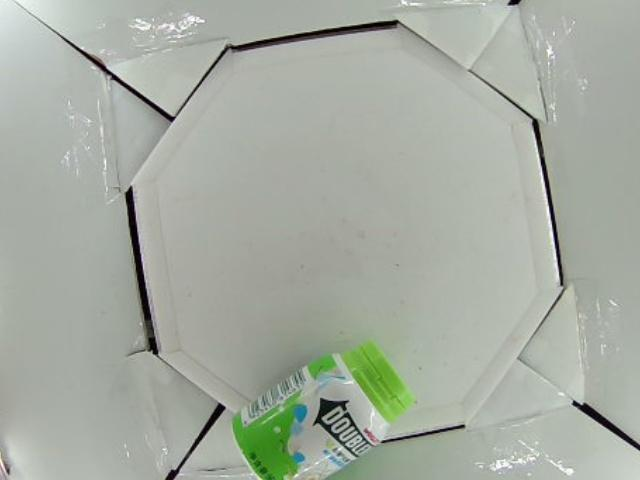Bottle: (231, 339, 417, 480)
